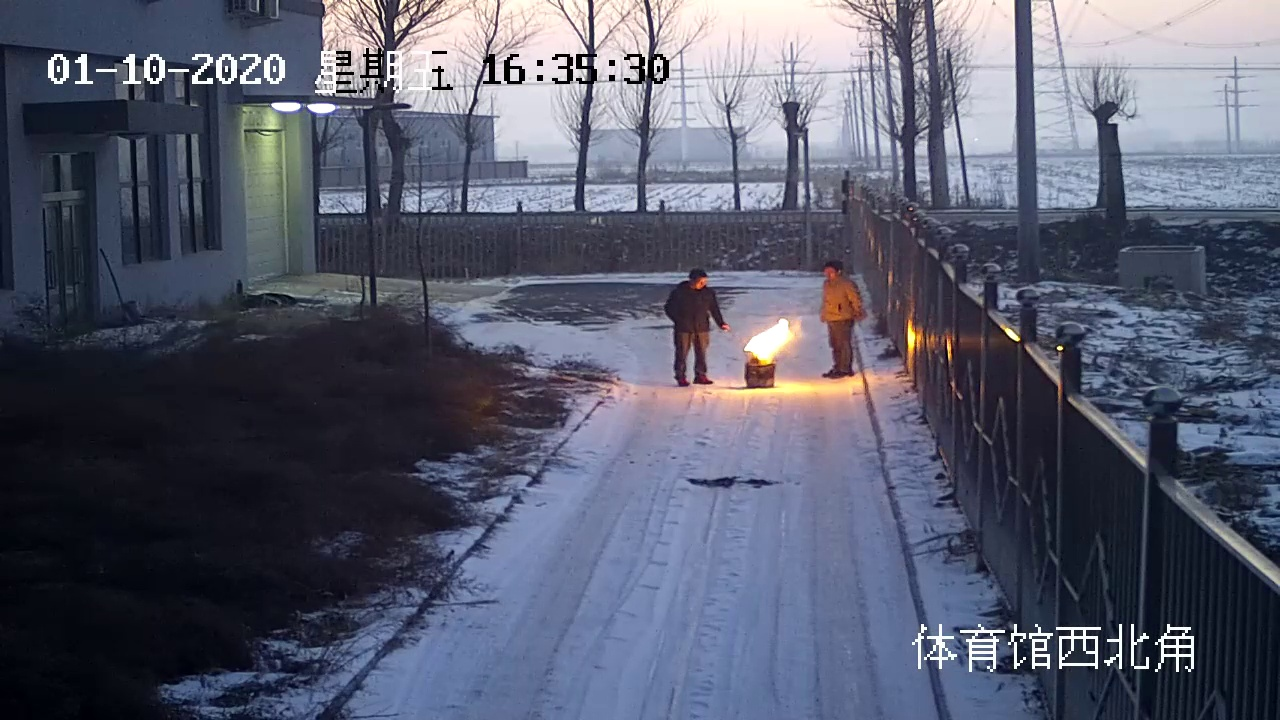fire: (743, 307, 801, 365)
